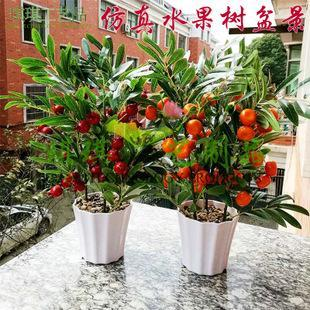apple: (144, 105, 156, 120)
